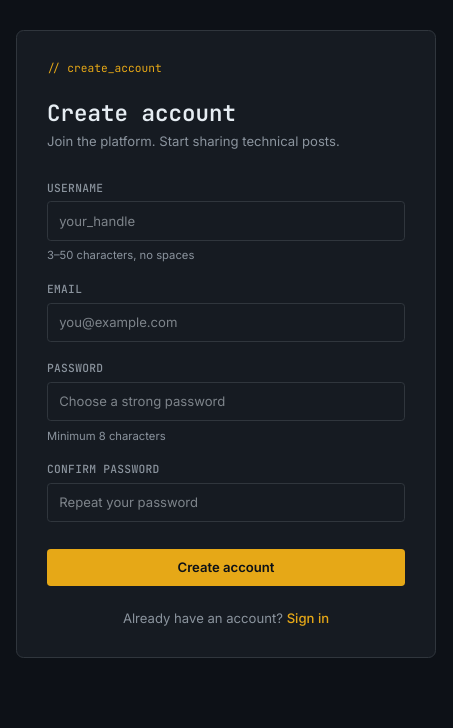
RegisterView › displays server error on API failure
Type "taken" into the field with id "username" at (226, 221), box [47,201,405,241]
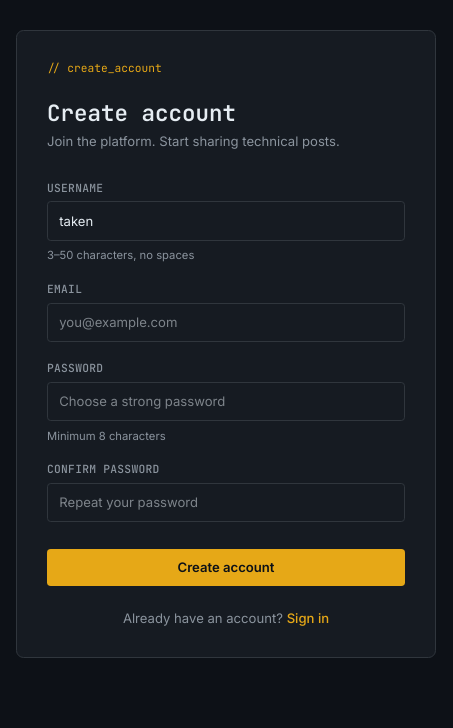
Type "x@example.com" into the field with id "email" at (226, 322), box [47,303,405,342]
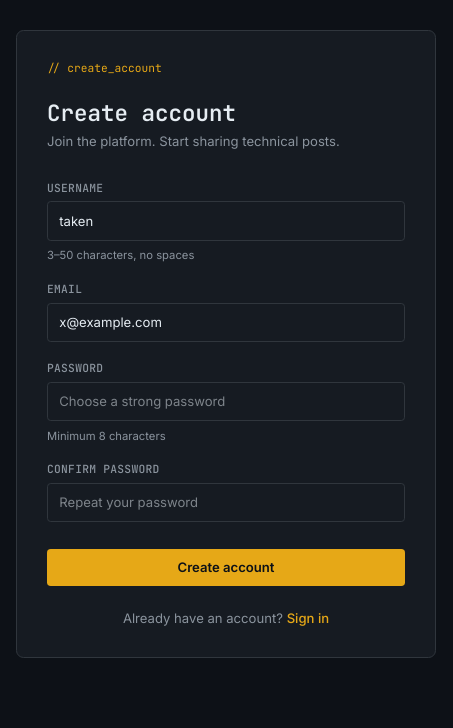
Type "password123" into the password field labelled "Password" at (226, 401), box [47,382,405,421]
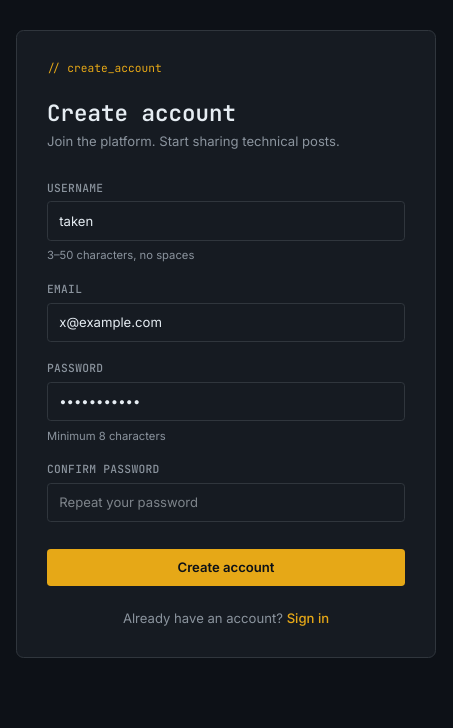
Type "password123" into the password field with id "confirmPassword" at (226, 503), box [47,483,405,522]
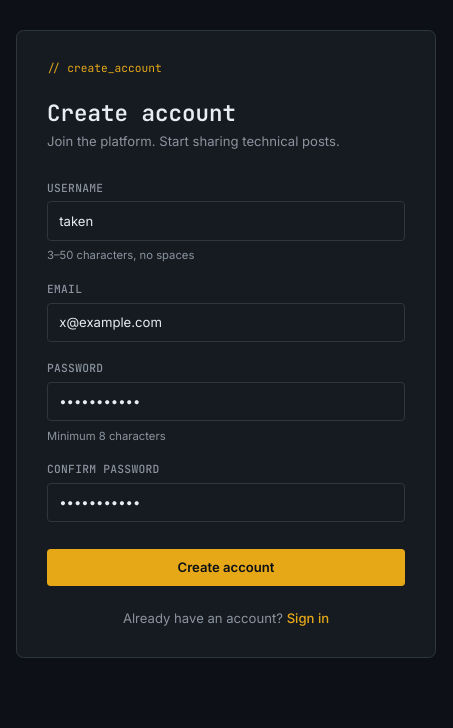
Submit the form, box [47,181,405,586]
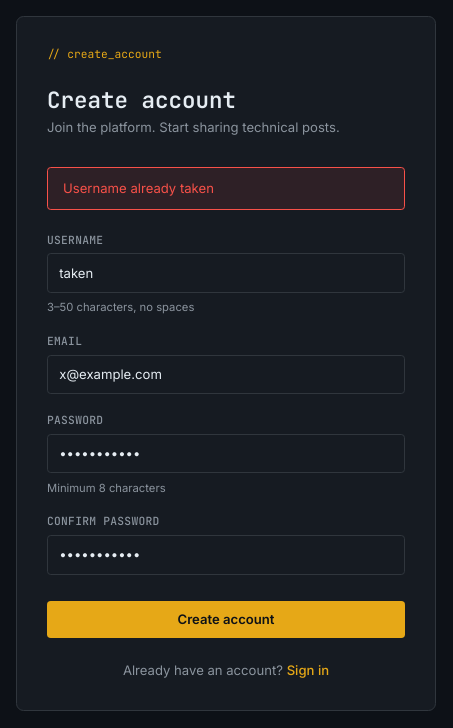
Expected: the text "Username already taken" is shown, [47,167,405,210]
